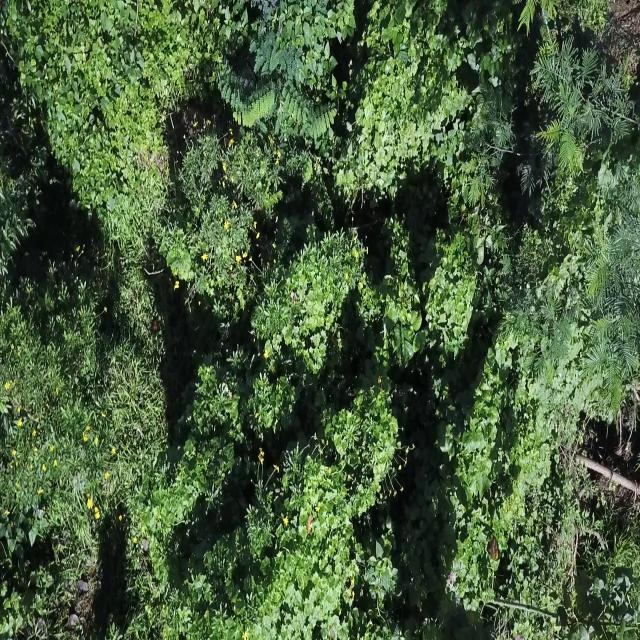Mysore-Thorn-Weed: (207, 40, 342, 159)
